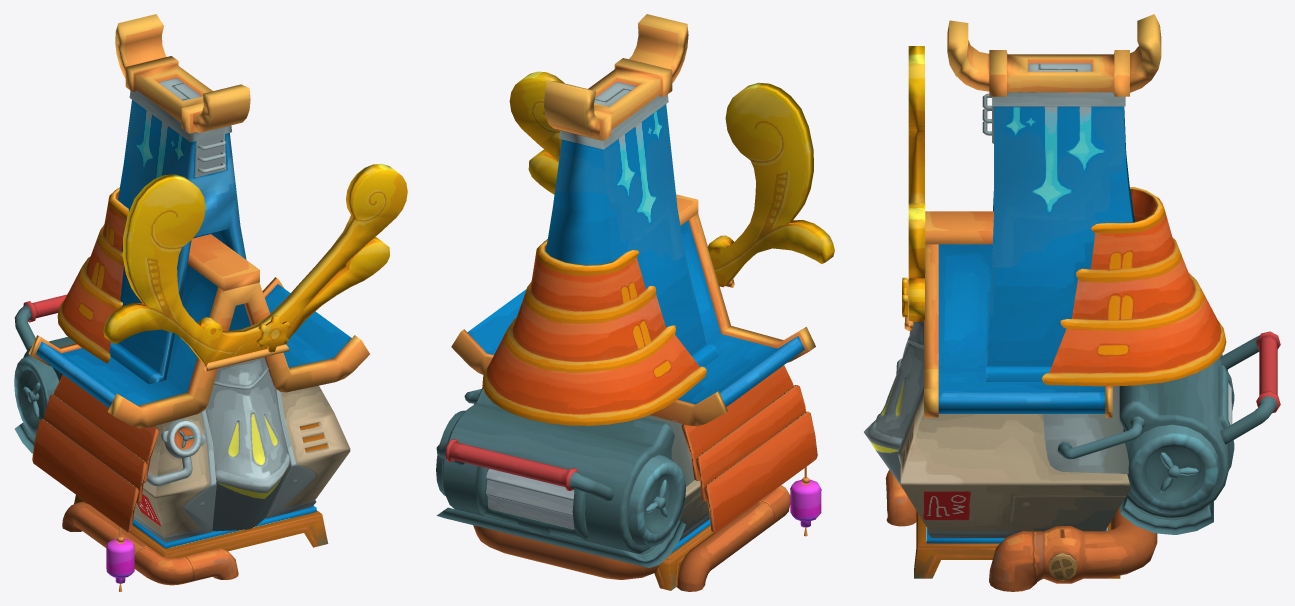
The model's file is SM_Armorsmith_lv4.fbx.
3 views of the same model, side by side, from view 1: azimuth 30°, elevation 25°; view 2: azimuth 150°, elevation 25°; view 3: azimuth 270°, elevation 25° (orthographic). The views are drawn at different scales.
Parts seen in each view (by area): view 1: SM_ArmorSmith_lv4; view 2: SM_ArmorSmith_lv4; view 3: SM_ArmorSmith_lv4.
Boxes of the visible parts, bbox=[...] form: SM_ArmorSmith_lv4: bbox=[14, 14, 407, 591]; SM_ArmorSmith_lv4: bbox=[436, 14, 834, 591]; SM_ArmorSmith_lv4: bbox=[864, 14, 1280, 591].
Size of the model in its own units: 702 by 1055 by 776.
